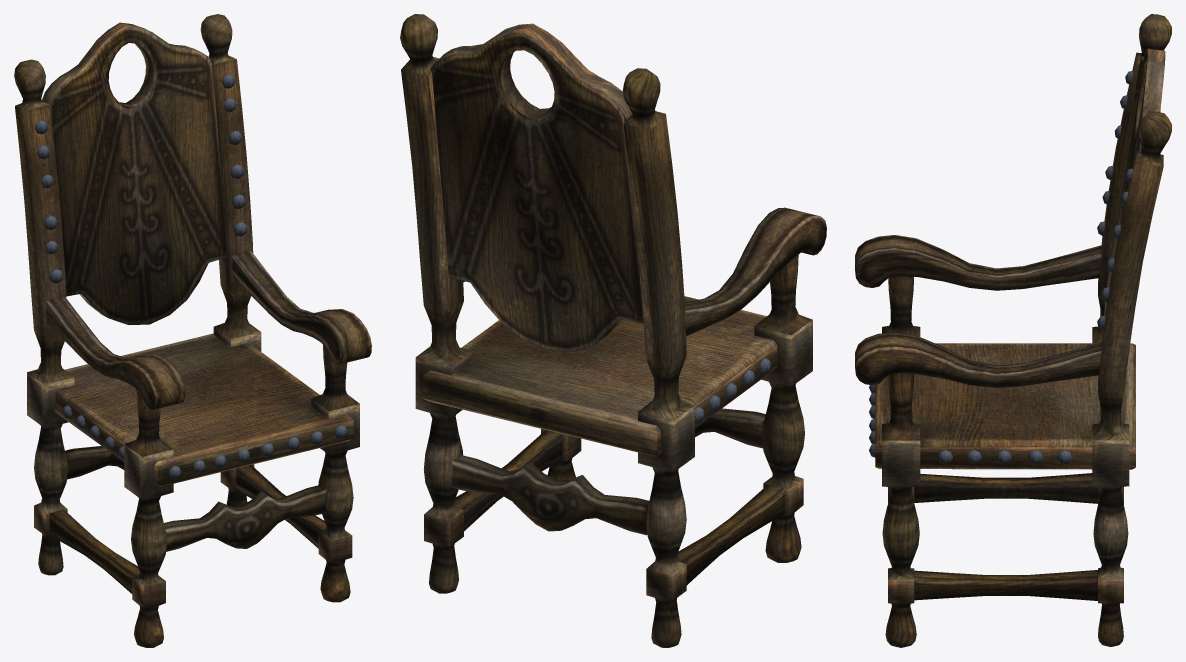
File: Chair.obj
3 renders of one model, left to right at view 1: azimuth 30°, elevation 25°; view 2: azimuth 150°, elevation 25°; view 3: azimuth 270°, elevation 25°, orthographic. The views are drawn at different scales.
Parts seen in each view (by area): view 1: Chair; view 2: Chair; view 3: Chair.
Boxes of the visible parts, <box> form: Chair: <box>14,14,371,647</box>; Chair: <box>400,14,826,647</box>; Chair: <box>855,14,1171,647</box>.
Bounding box in the file's own units: 59.82 × 134 × 70.5.
